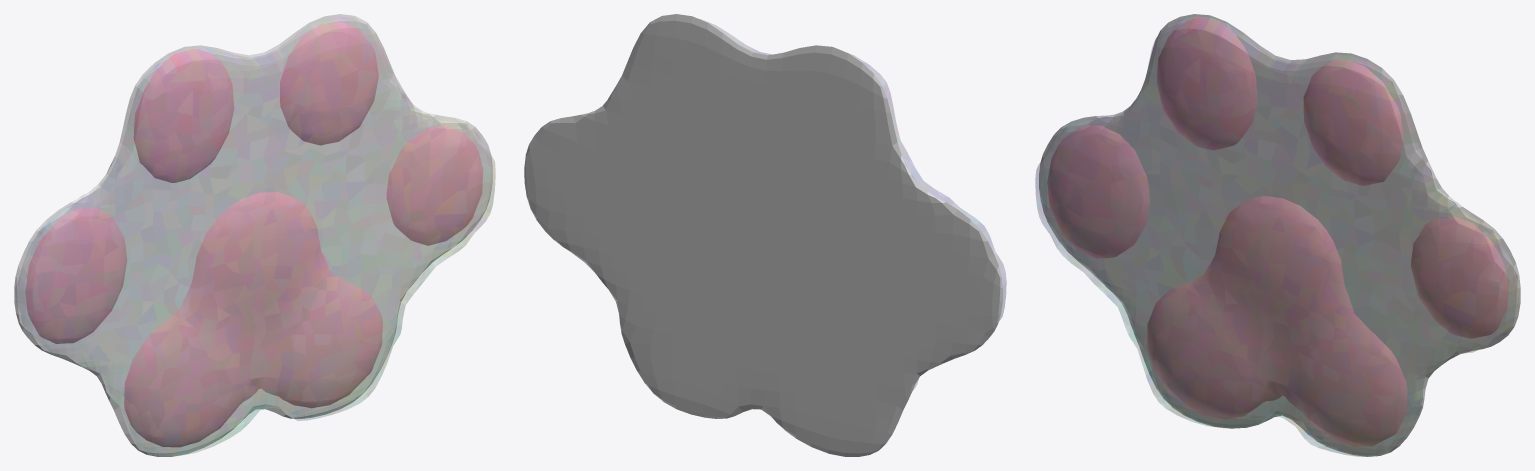
Rendered from nikukyu_holo.glb.
The picture shows the model from 3 angles, left to right: view 1: azimuth 30°, elevation 25°; view 2: azimuth 150°, elevation 25°; view 3: azimuth 330°, elevation 25°; orthographic projection.
Visible parts, largest first — view 1: 平面.001, メタボール.007, 平面; view 2: 平面, 平面.001; view 3: 平面.001, メタボール.007, 平面.
Part boxes in pixels (x1,y1,x2,y2): 平面.001: (15,17,495,456); メタボール.007: (25,22,483,447); 平面: (14,14,492,456); 平面: (524,14,1002,456); 平面.001: (700,19,1006,391); 平面.001: (1035,16,1518,456); メタボール.007: (1047,17,1508,446); 平面: (1039,14,1520,456).
Size of the model in its own units: 2.48 by 2.02 by 0.0958.
Materials: 3 (1 with a texture image).
